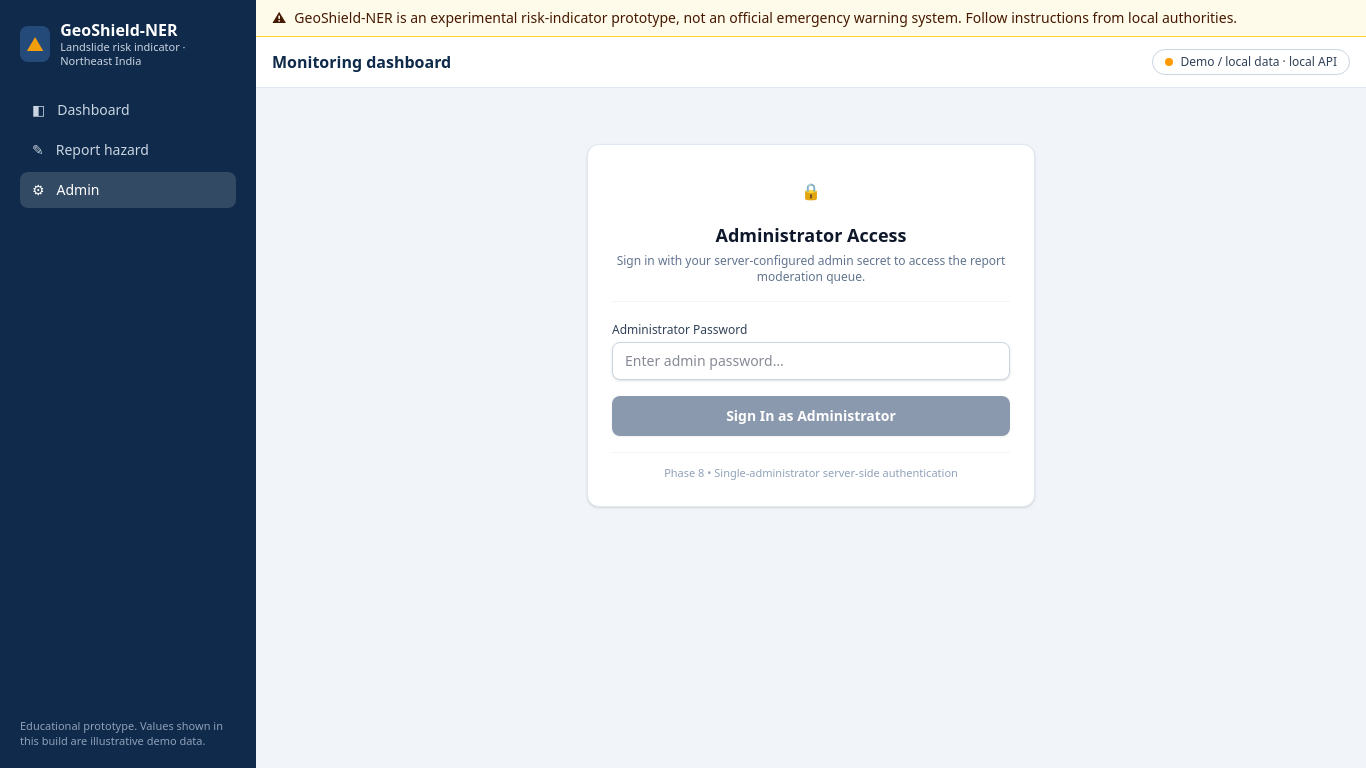
Test: Admin UI — /admin › displays error message on failed login
Type "wrongpassword" into the password field labelled "Administrator Password".
click(811, 361); type("wrongpassword")  # box [612,342,1010,380]
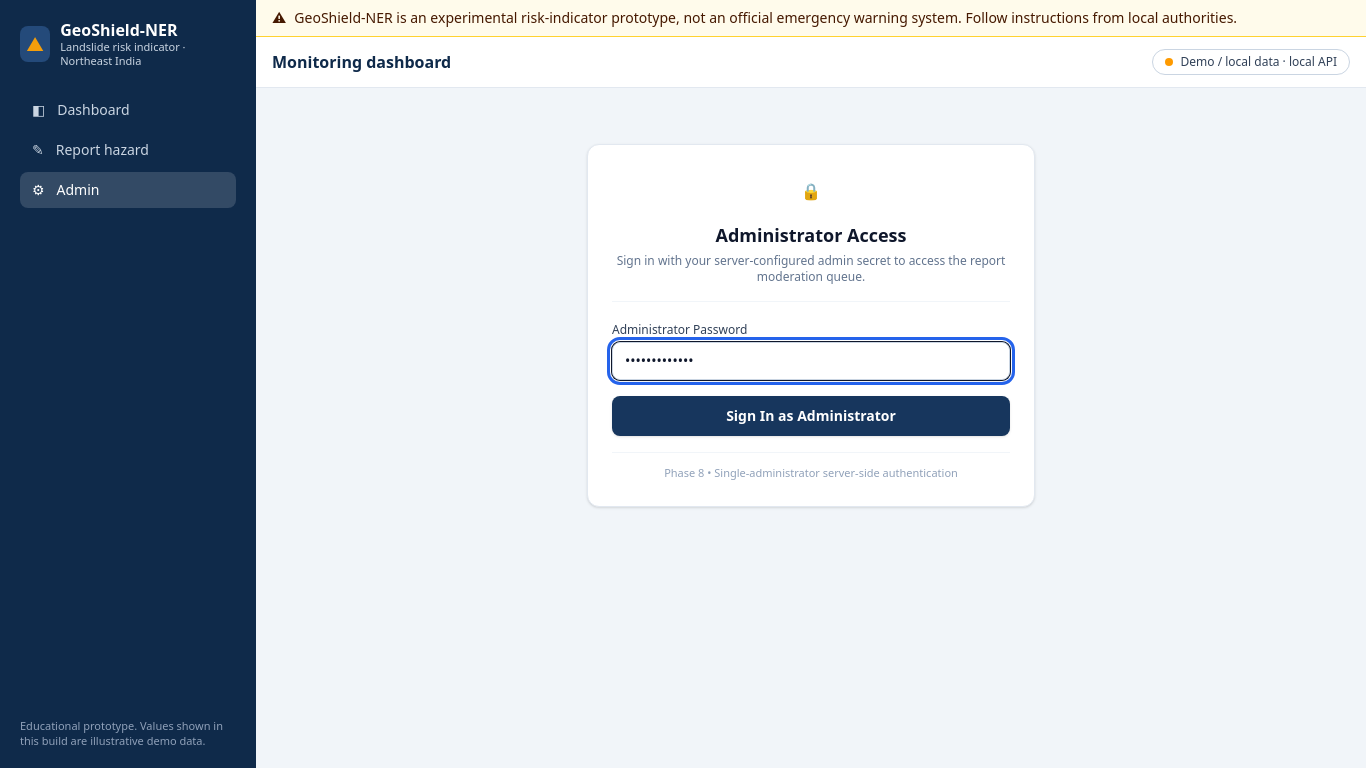
Click the button "Sign In as Administrator".
click(811, 416)  # box [612,396,1010,436]
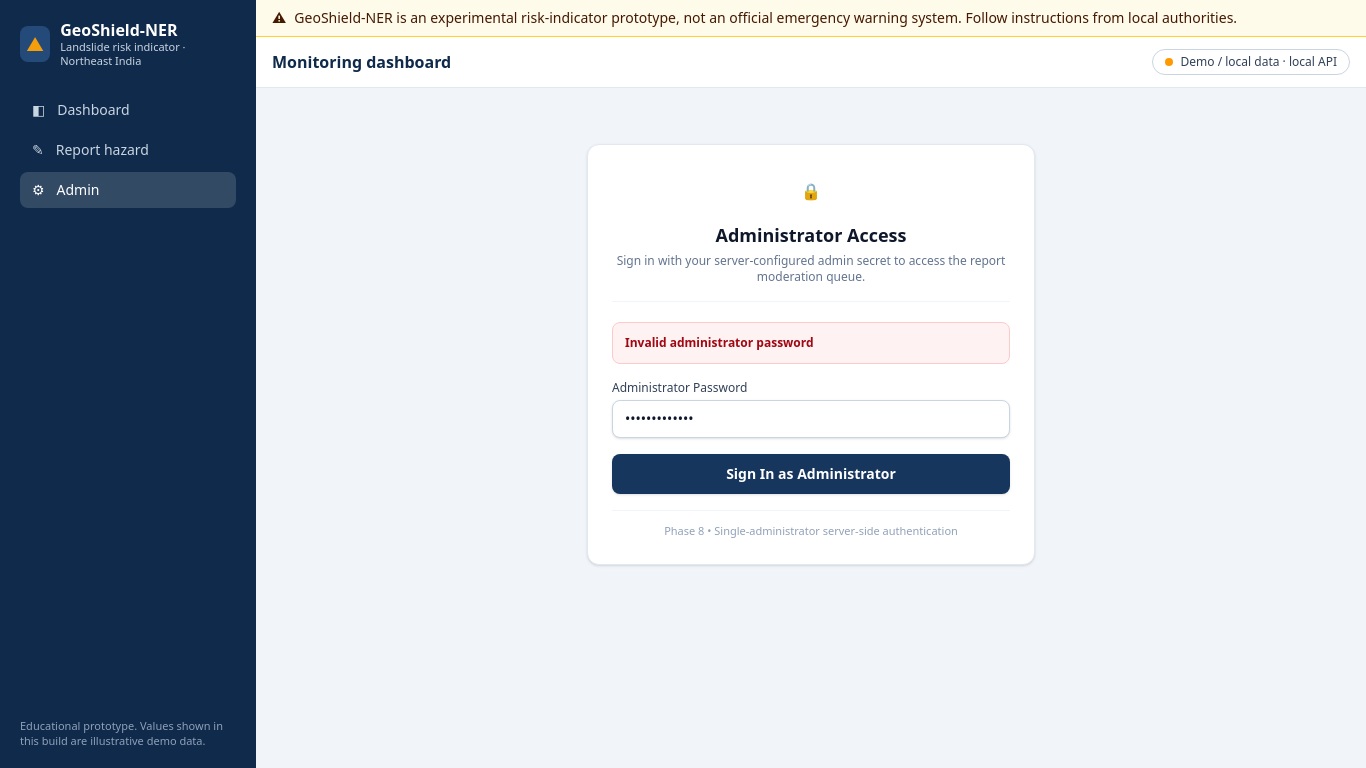
Check: the message "Invalid administrator password" is shown, box [612,322,1010,364]
